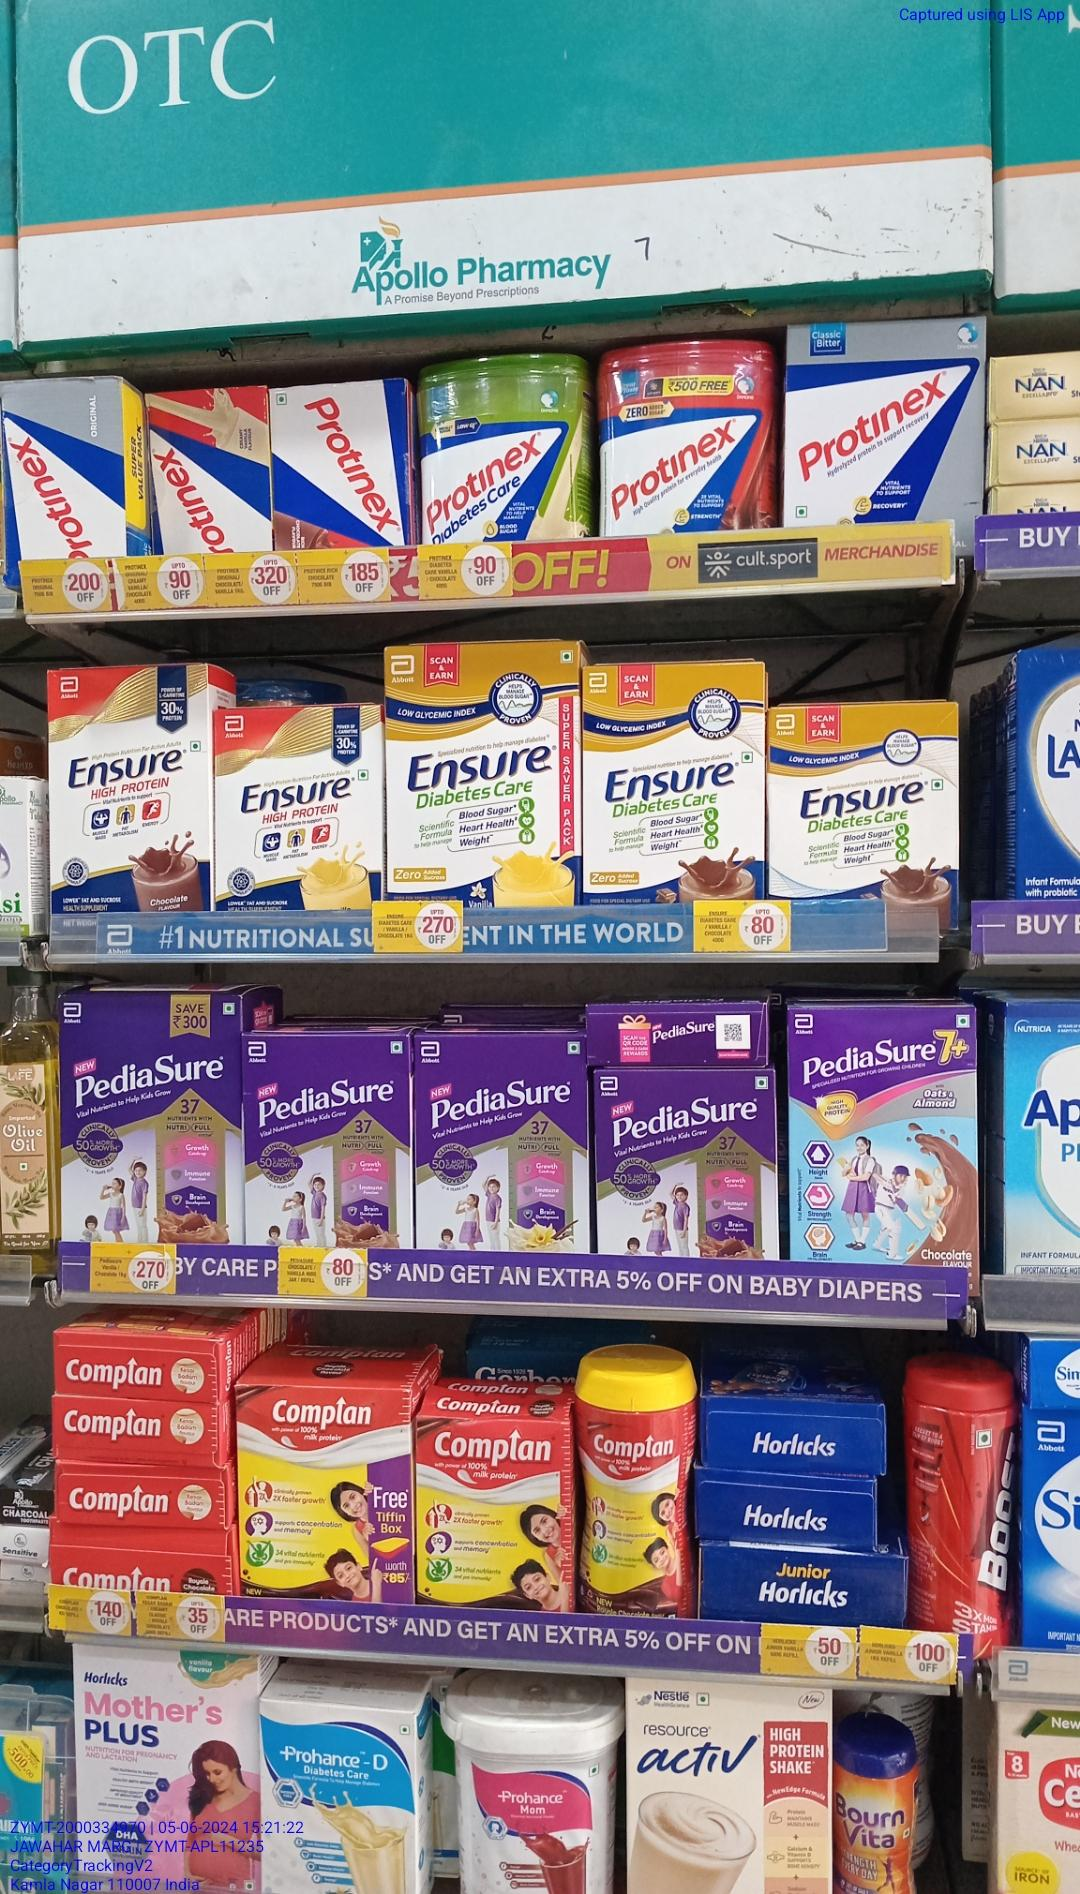BOURN_VITA_200_G_JAR: (831, 1730, 912, 1894)
COMPLAN_CHOCOLATE_500_GMS_JAR: (579, 1357, 695, 1629)
PEDIASURE_CHOCOLATE_500_G_PACK: (246, 1032, 409, 1249)
PEDIASURE_VANILLA_500_G_PACK: (416, 1032, 589, 1254)
PROTINEX_CHOCOLATE_400_G_JAR: (600, 342, 768, 539)
